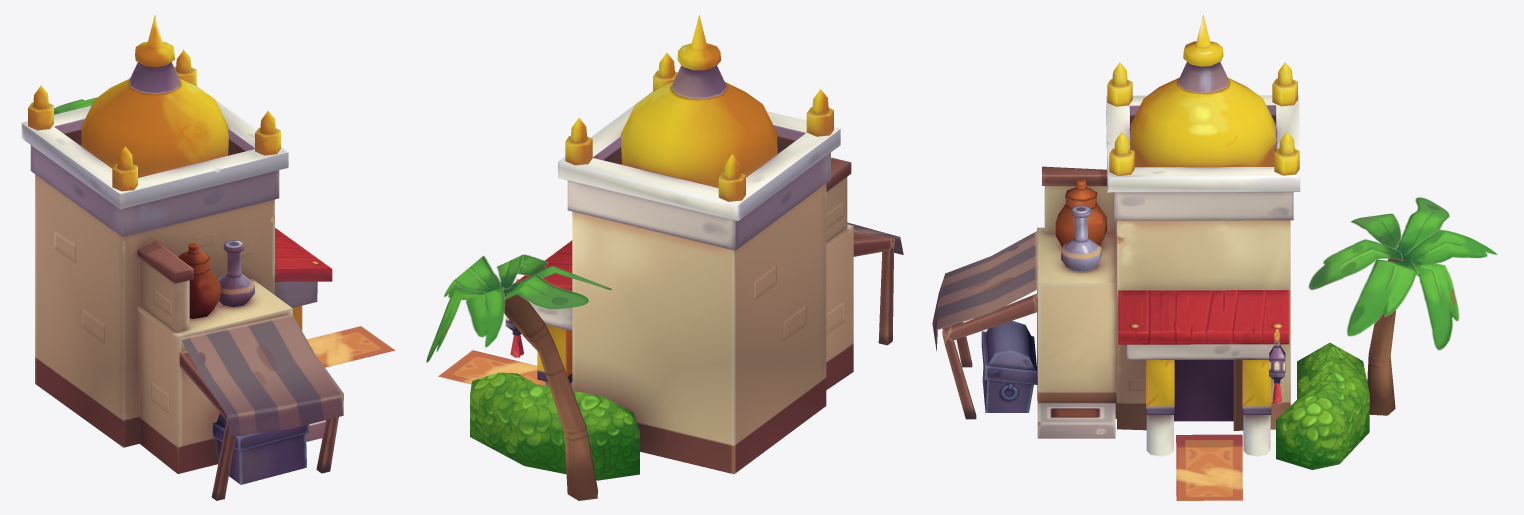
The model's file is stylized_house.glb.
3 views of the same model, side by side, from view 1: azimuth 30°, elevation 25°; view 2: azimuth 150°, elevation 25°; view 3: azimuth 270°, elevation 25° (orthographic). The views are drawn at different scales.
Parts seen in each view (by area): view 1: House; view 2: House; view 3: House.
Boxes of the visible parts, x1,y1,x2,y2 form: House: (21,15,394,500); House: (426,14,903,500); House: (932,14,1497,500).
Size of the model in its own units: 2.77 by 3.32 by 4.49.
Materials: 1 (1 with a texture image).
